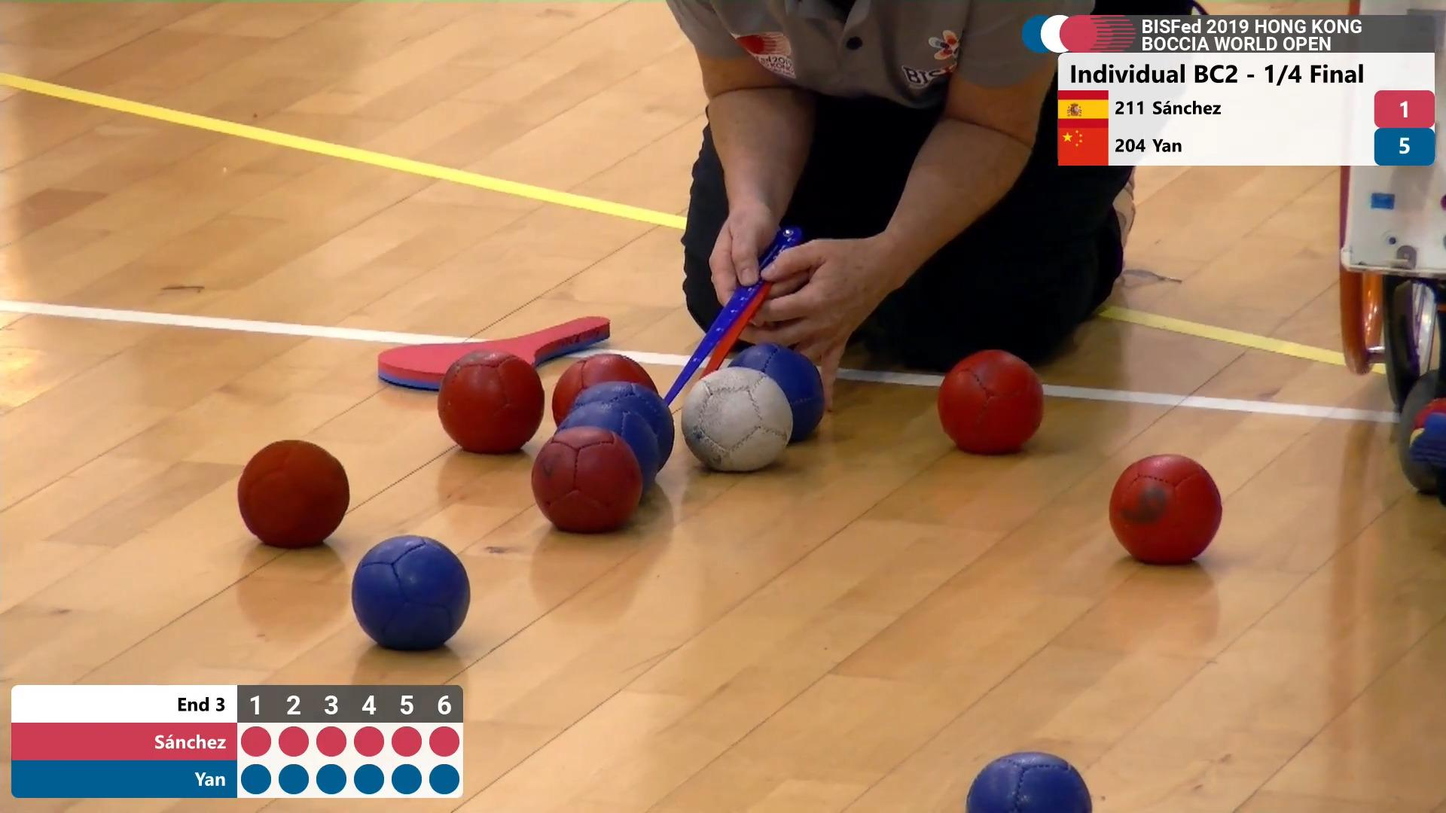blue_ball: (354, 538, 469, 653), (973, 751, 1094, 813), (742, 346, 823, 433)
red_ball: (1111, 455, 1222, 568), (241, 440, 348, 542), (444, 352, 542, 448), (943, 352, 1037, 450), (540, 433, 638, 525)
white_ball: (683, 375, 789, 470)
